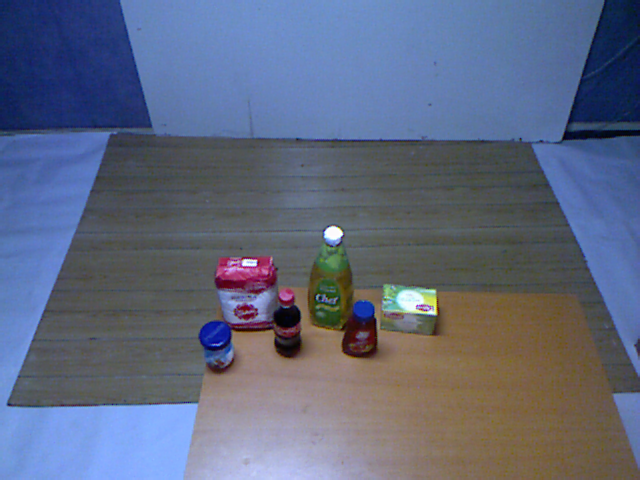aceite: (304, 224, 358, 338)
coca: (267, 283, 305, 362)
crema: (194, 316, 238, 378)
harina: (210, 251, 284, 343)
ketchup: (337, 296, 386, 362)
te: (376, 280, 444, 338)
